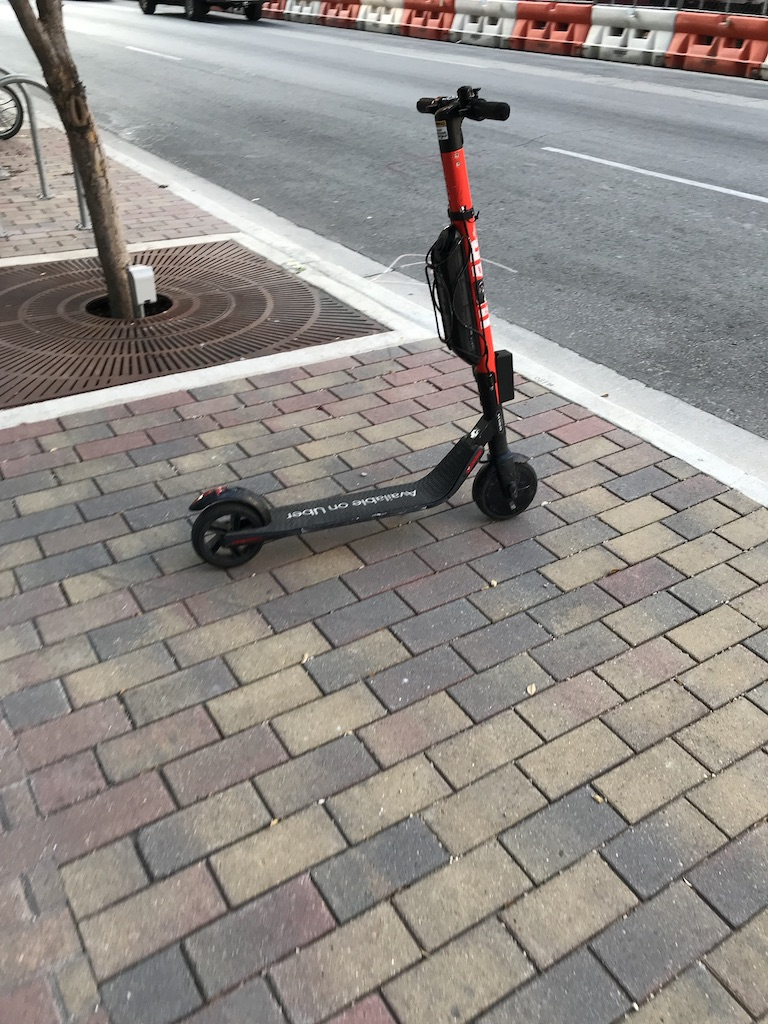scooter: (190, 87, 543, 570)
